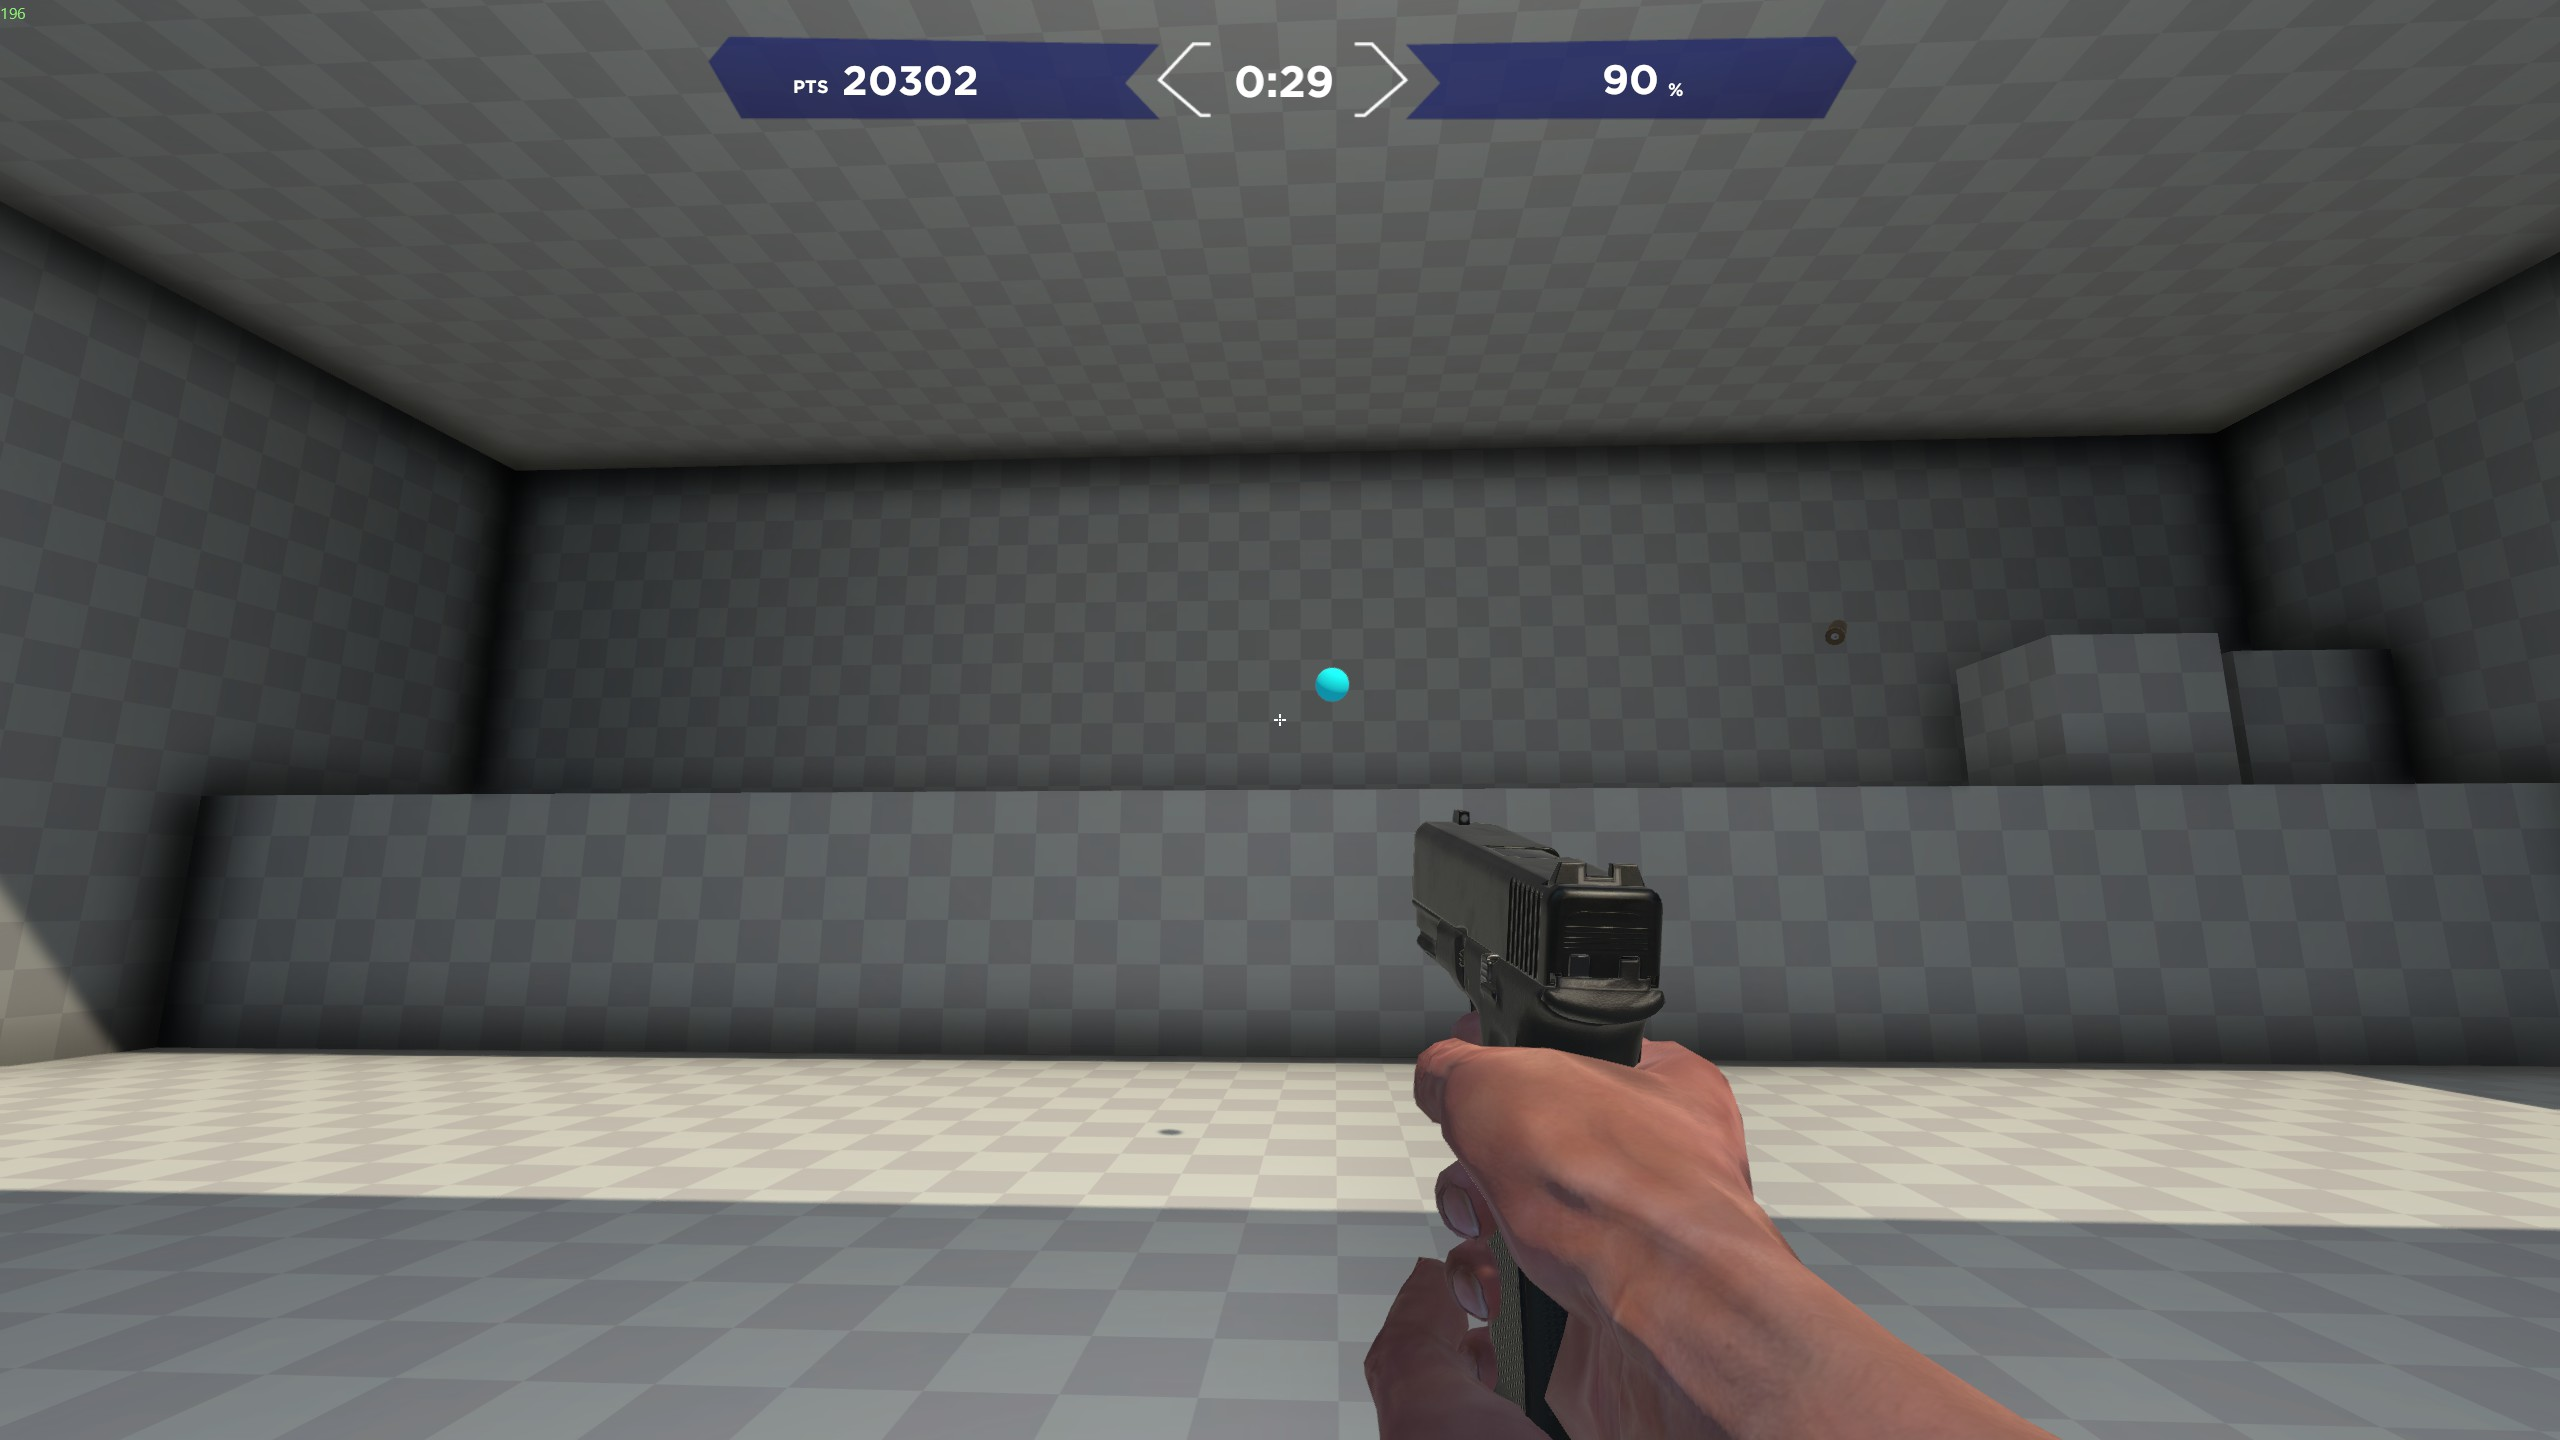Target: (1306, 666, 1370, 707)
